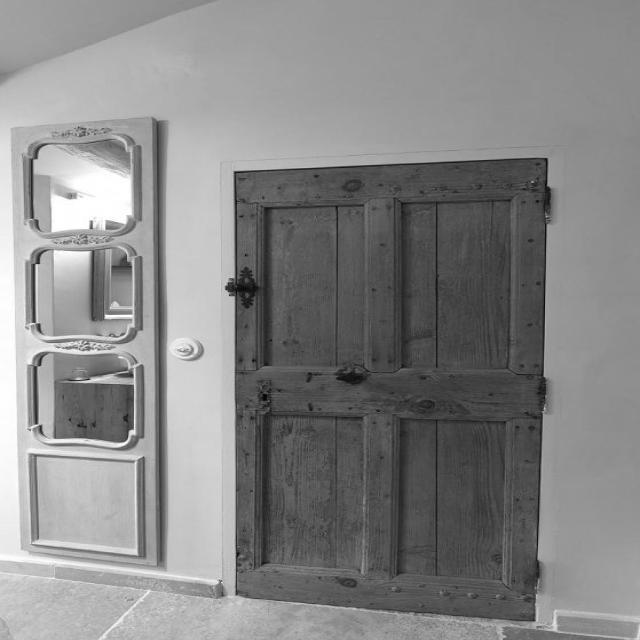door: (231, 156, 548, 620)
